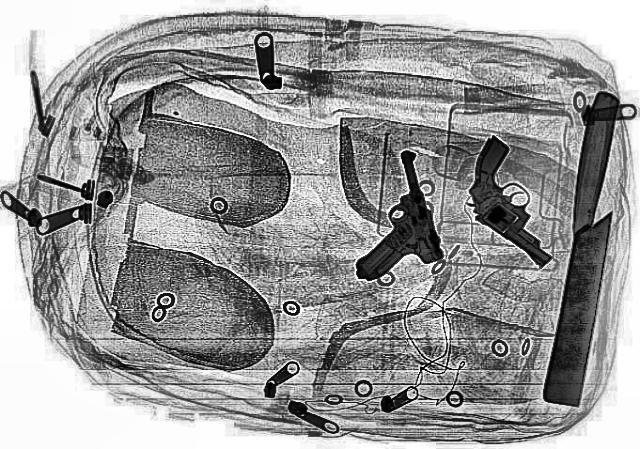Gun: (418, 136, 616, 266), (322, 148, 448, 280)
Knife: (538, 89, 632, 406)
